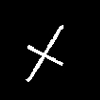single_crochet: (26, 25, 62, 81)
